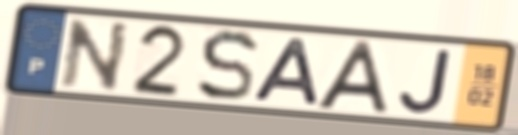2: (129, 21, 191, 100)
A: (311, 39, 392, 117), (249, 35, 323, 109)
J: (397, 47, 455, 116)
N: (58, 17, 134, 94)
S: (194, 27, 261, 104)
